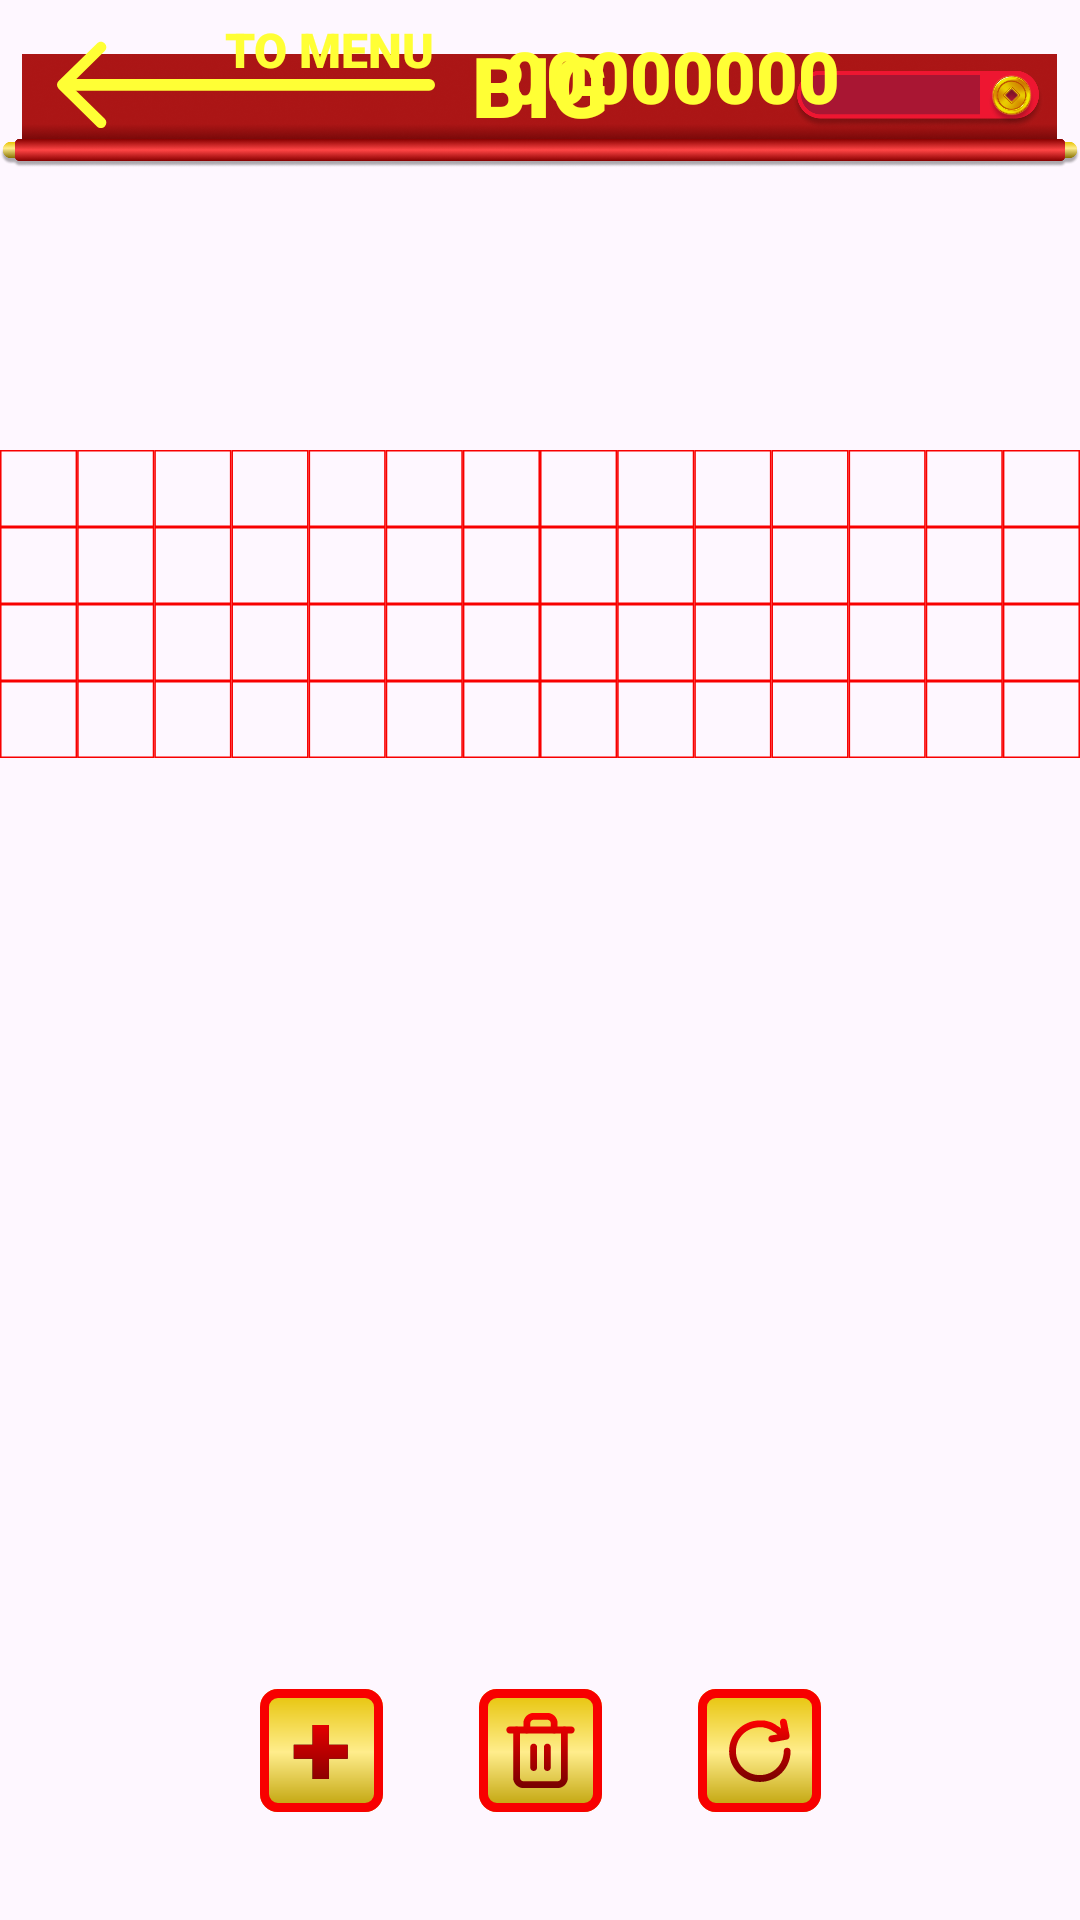

Named icons in this screenshot (1080*1920) and their bounding boxes, (x1, y1, x2, y2):
plus: (260, 1689, 383, 1812)
reload: (698, 1689, 821, 1812)
trash: (479, 1689, 602, 1812)
